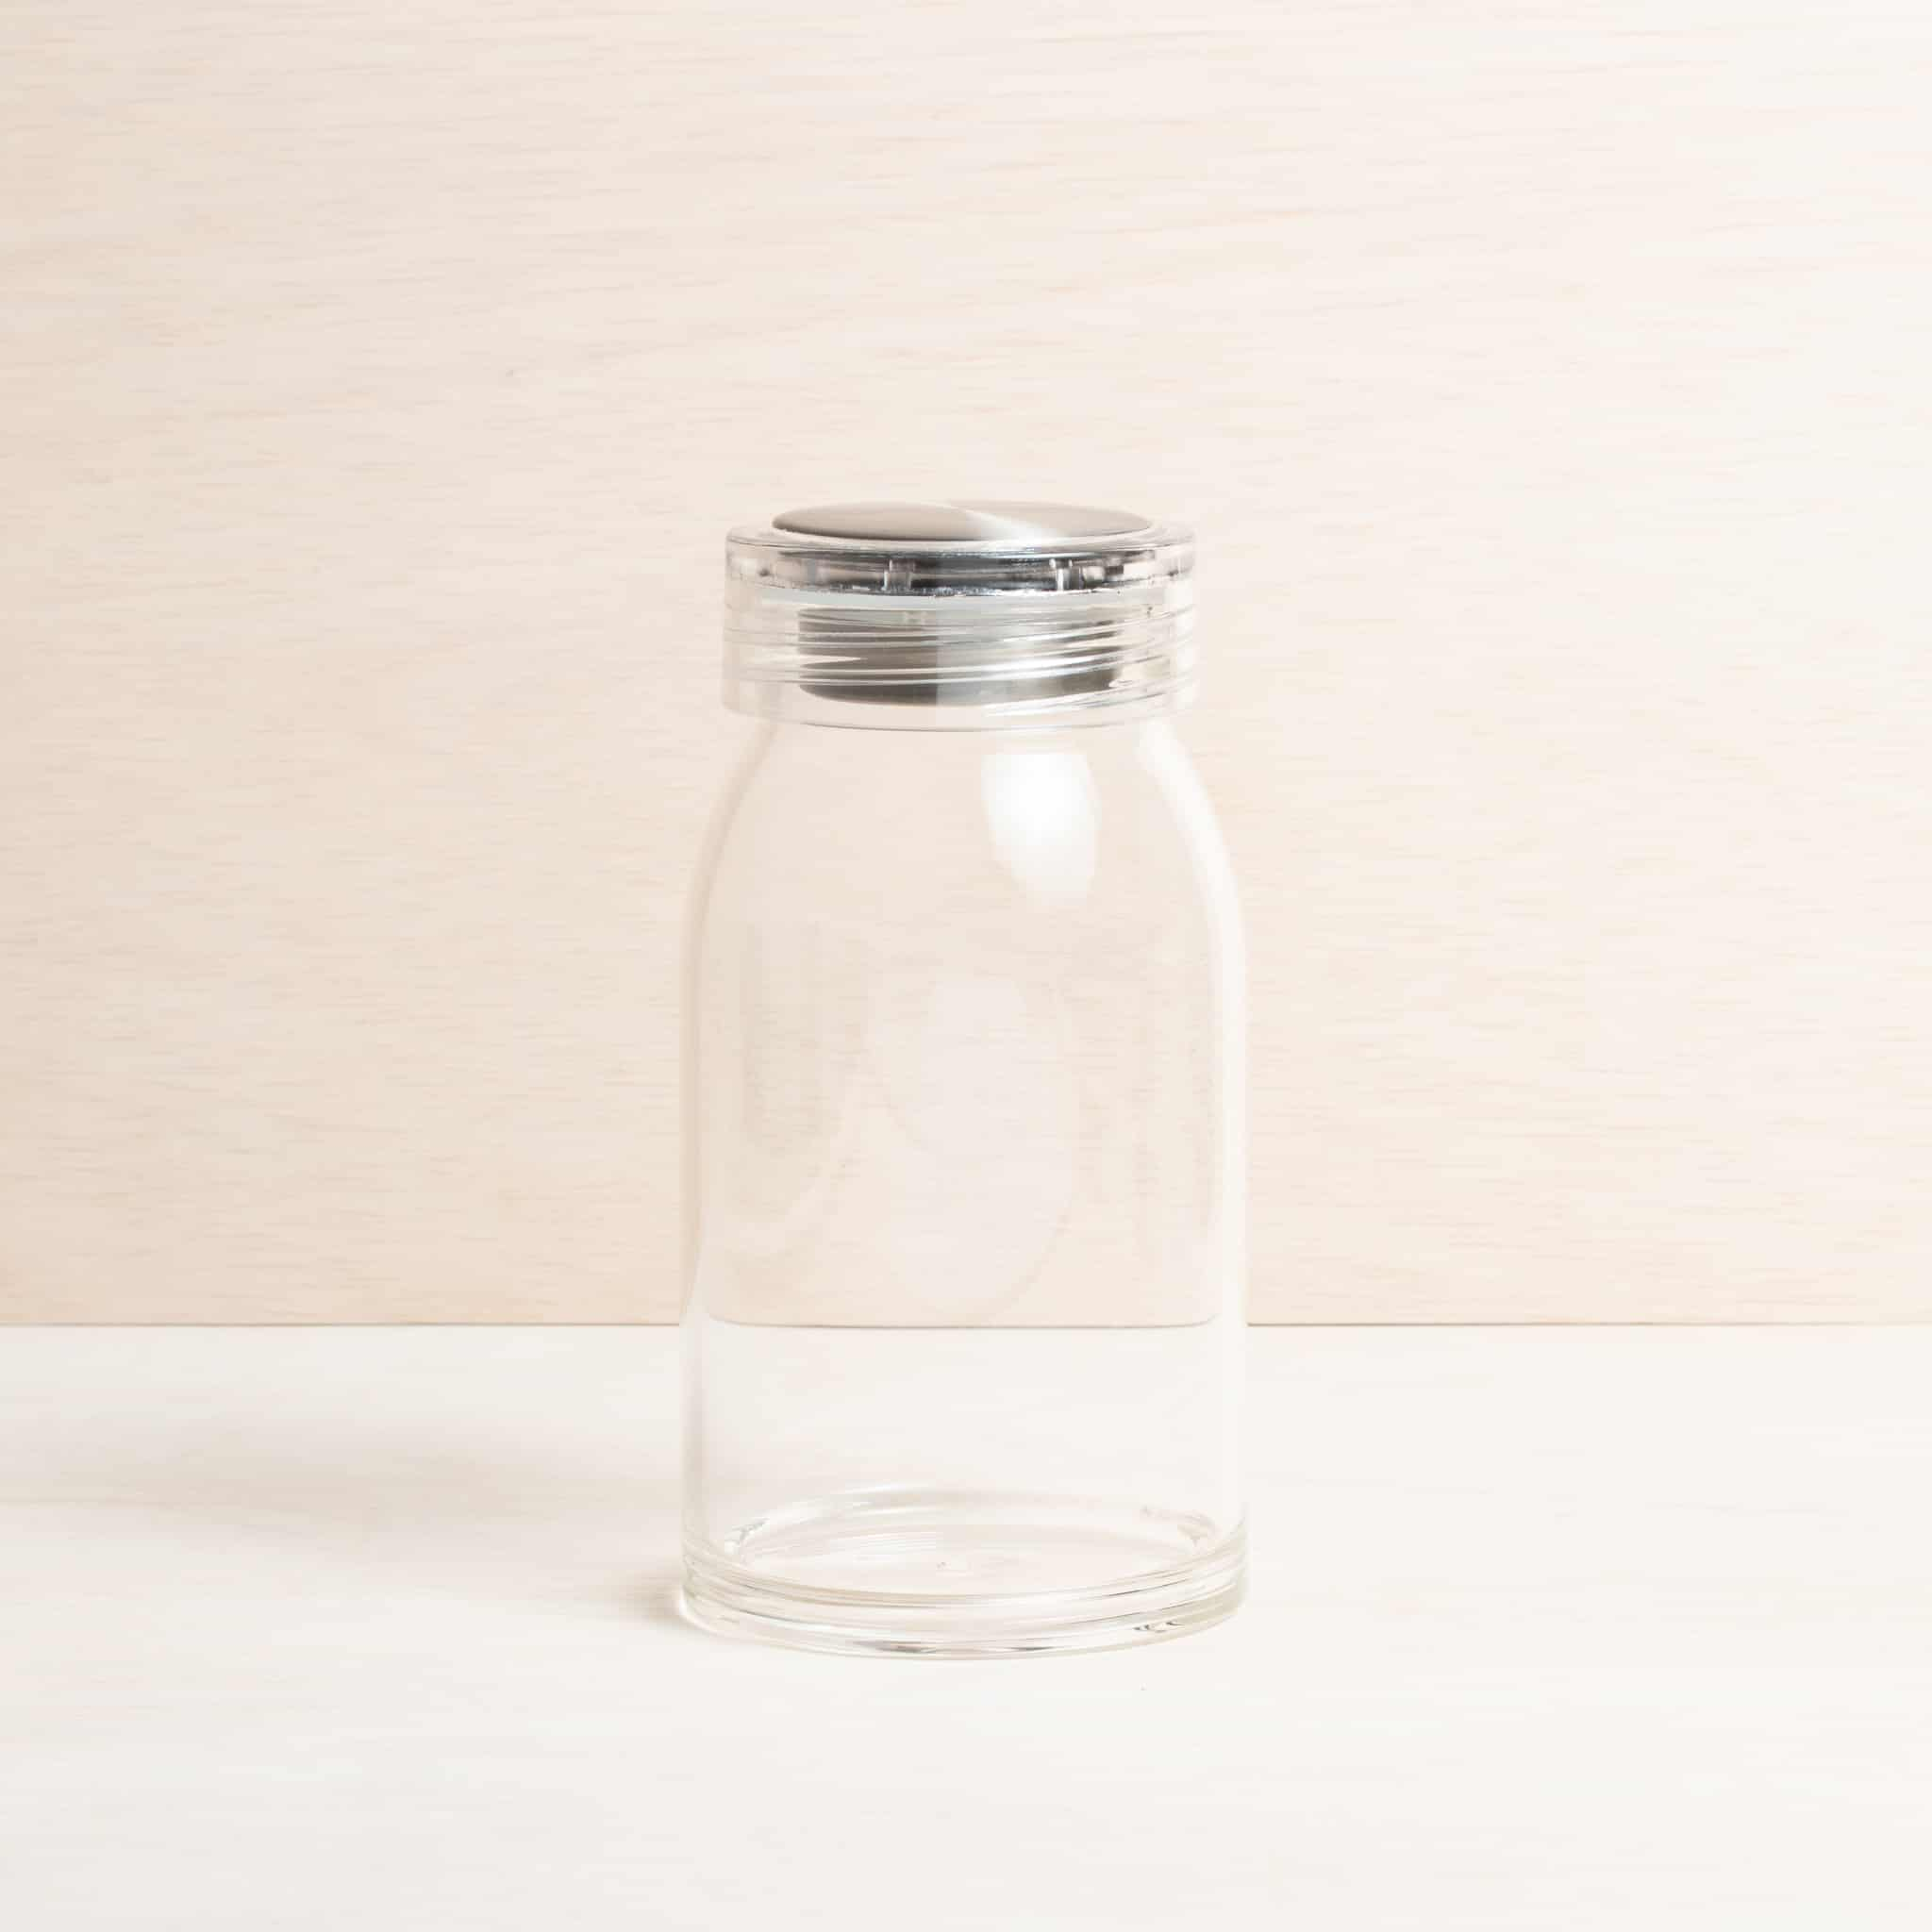glass_bottle: (623, 458, 1313, 1688)
